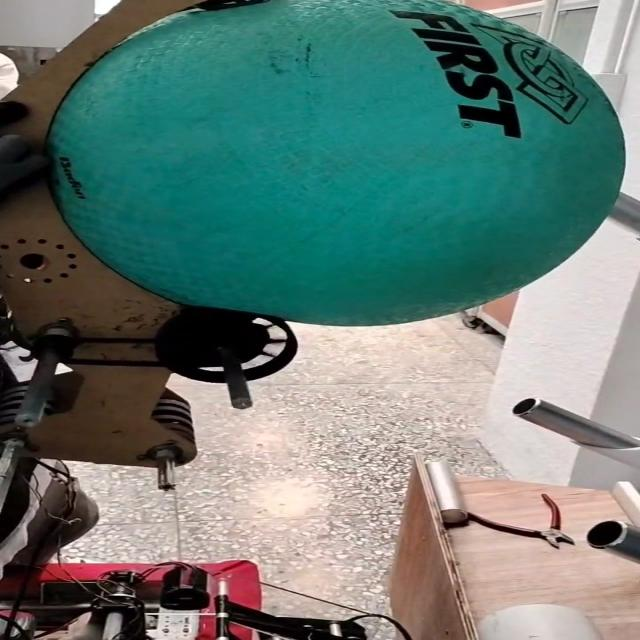ALGAE: (51, 0, 620, 325)
